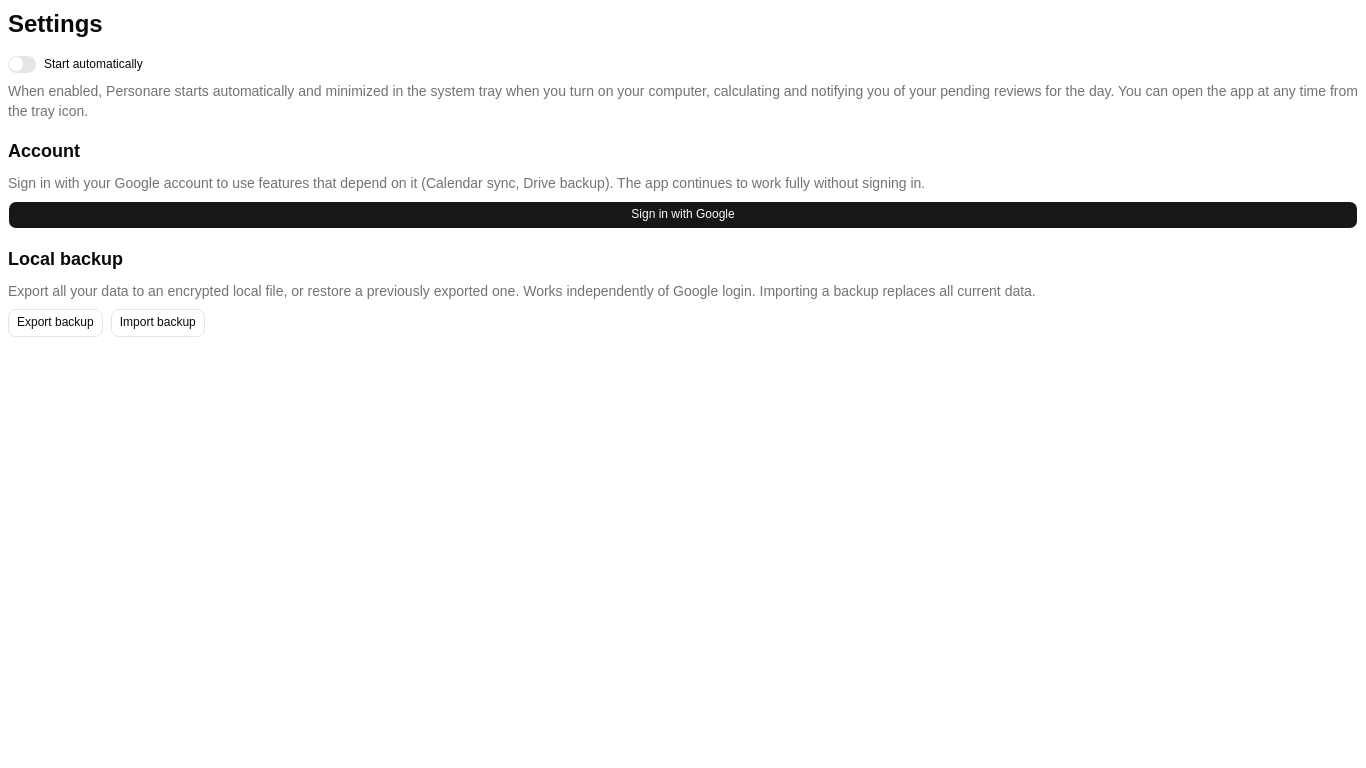
Test: SettingsPage backup section (Issue #21) › export › shows an error message when exportBackup rejects
The image size is (1366, 768).
Click the button "Export backup" at (55, 323), box [8, 309, 103, 337]
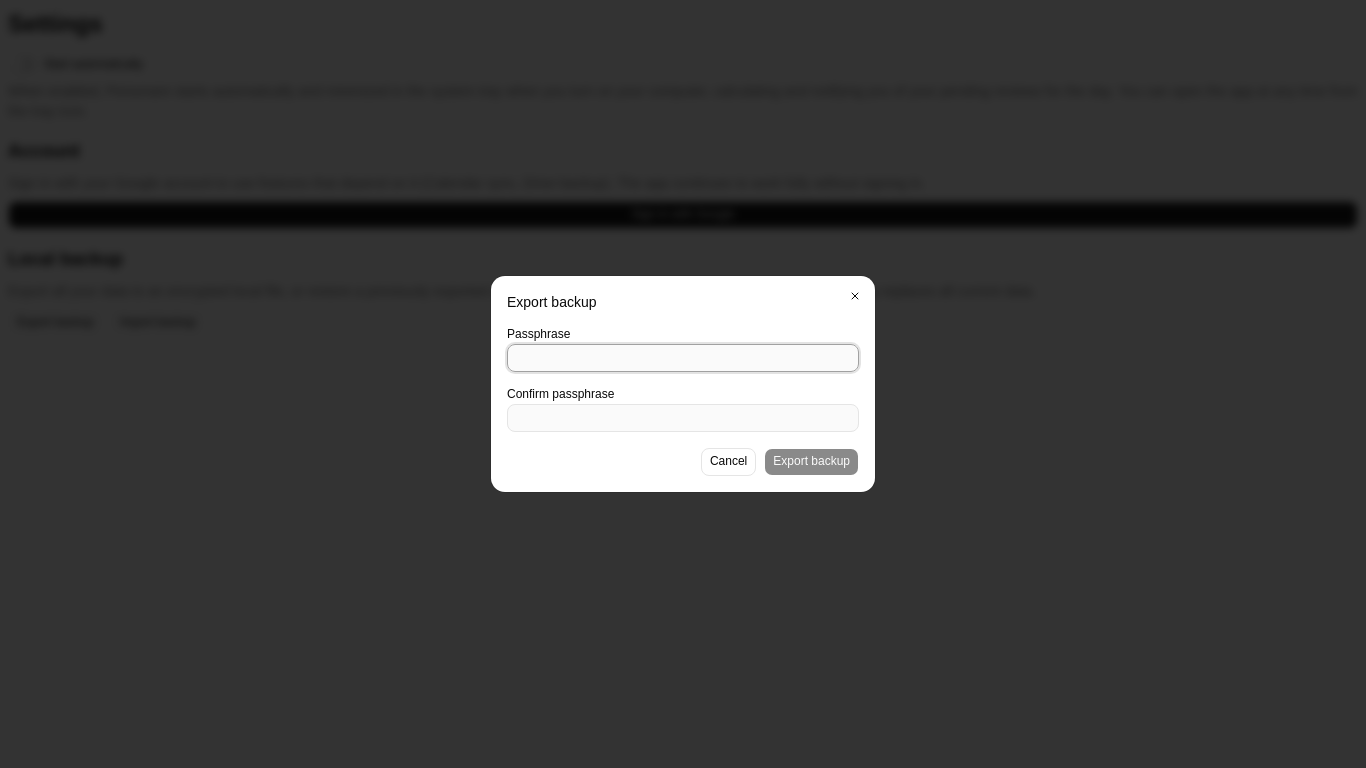
Type "senha-forte" into the password field labelled "Passphrase" at (683, 358), box [507, 344, 859, 372]
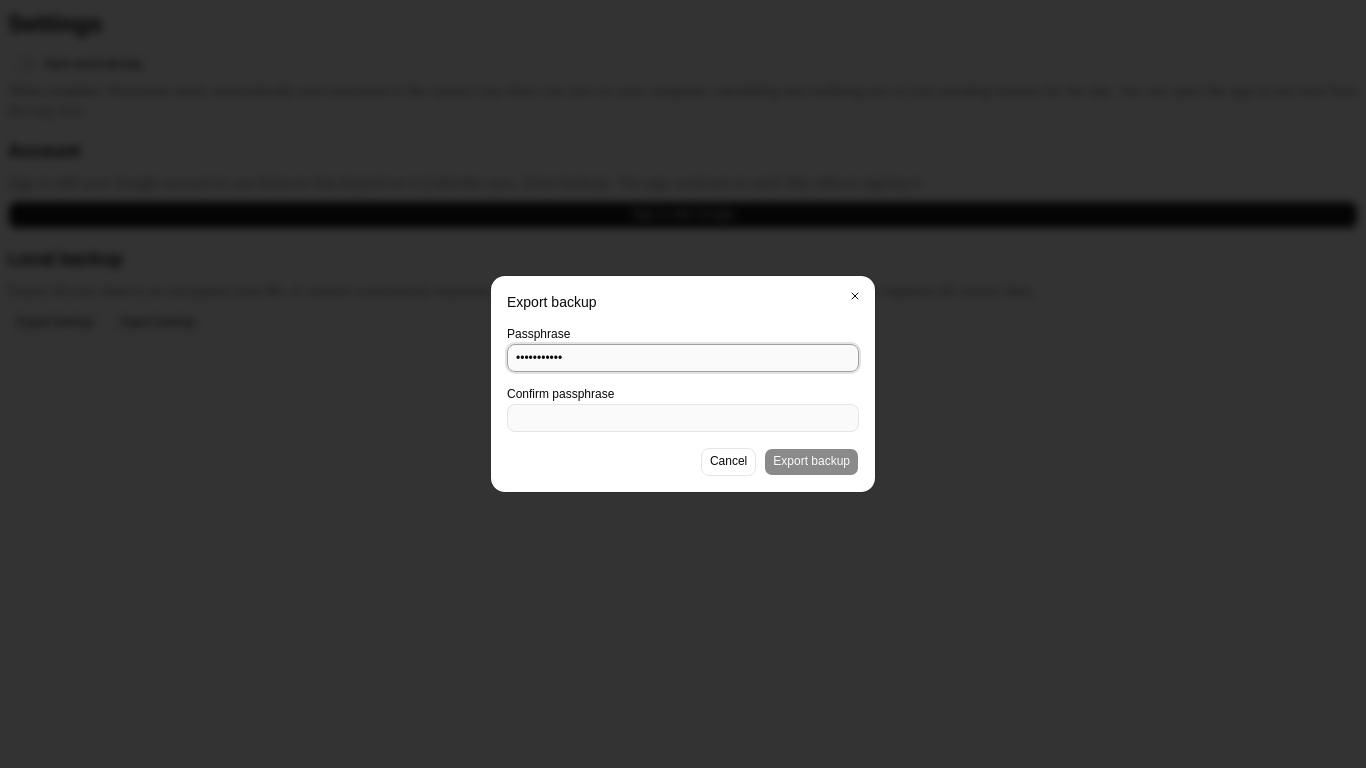
Type "senha-forte" into the password field labelled "Confirm passphrase" at (683, 418), box [507, 404, 859, 432]
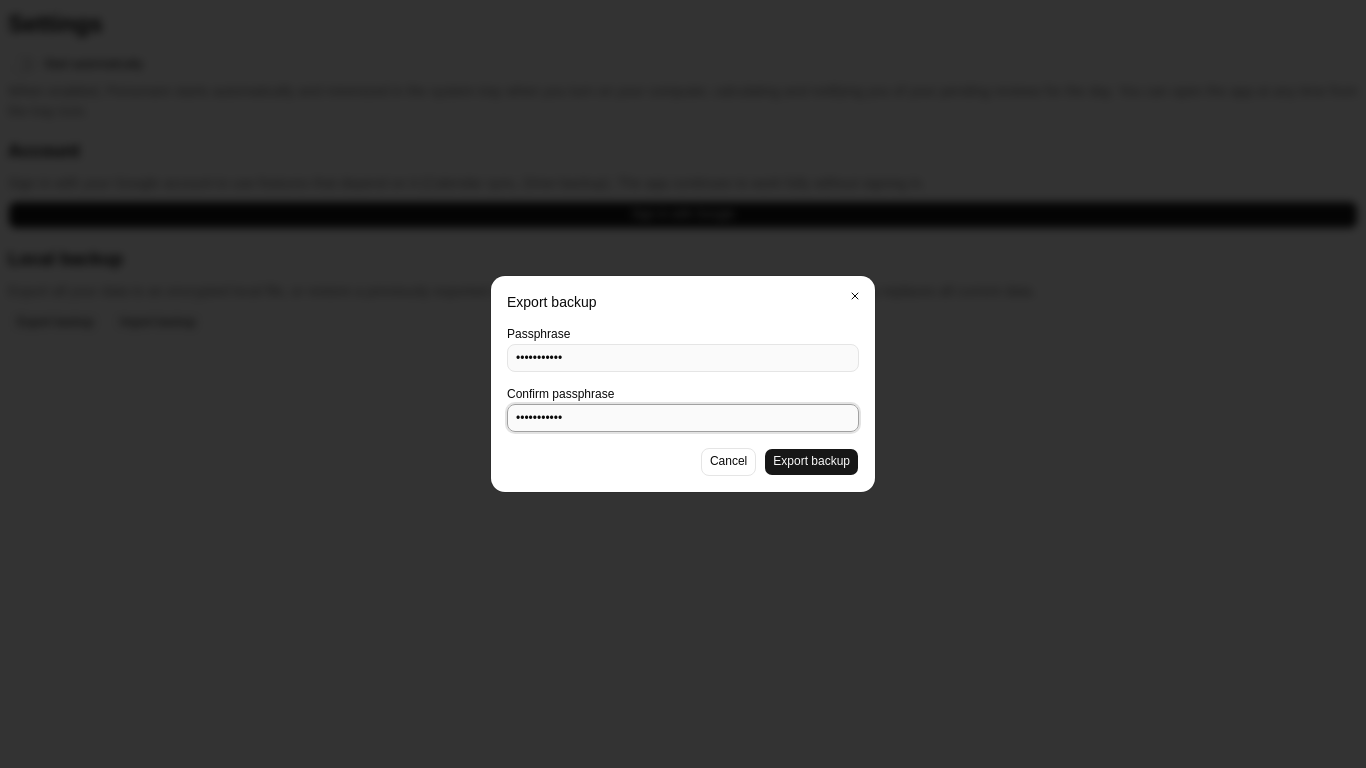
Click the button "Export backup" at (812, 462), box [764, 448, 859, 476]
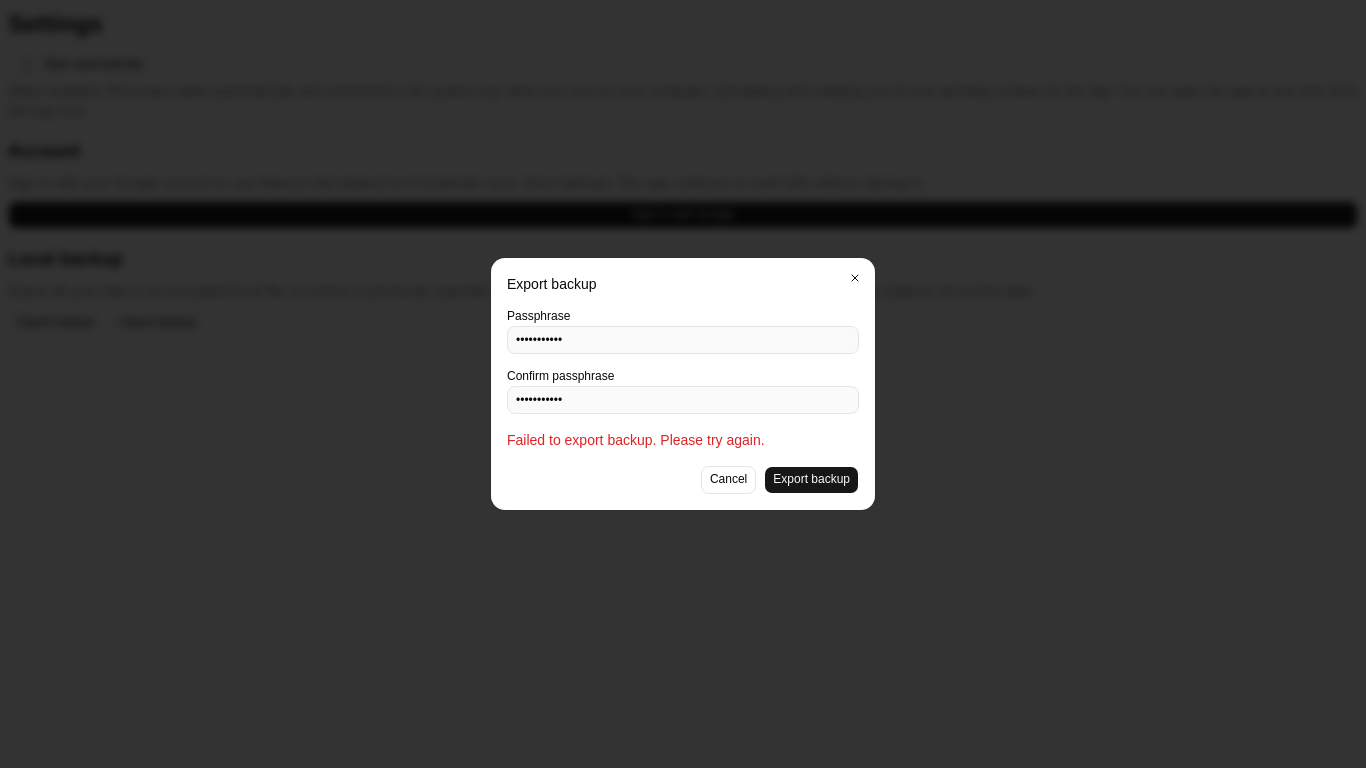
Expected: the text "Failed to export backup. Please try again." is shown, [507, 432, 765, 448]
